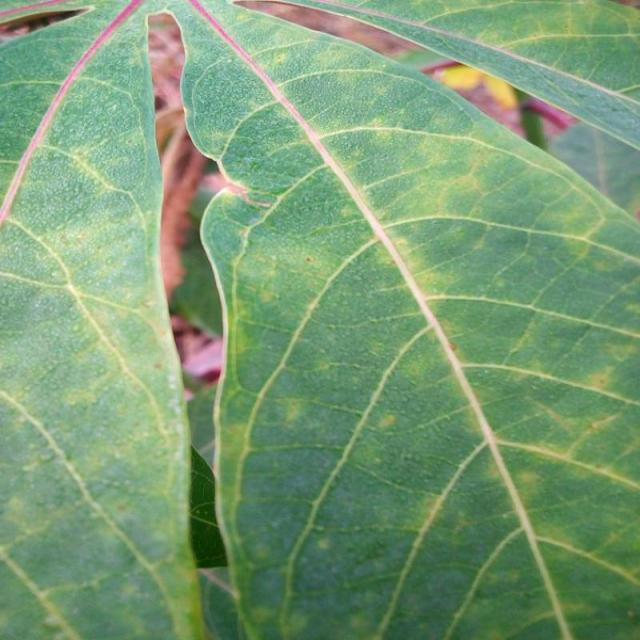cassava leaf: (1, 0, 638, 639), (0, 0, 206, 638)
